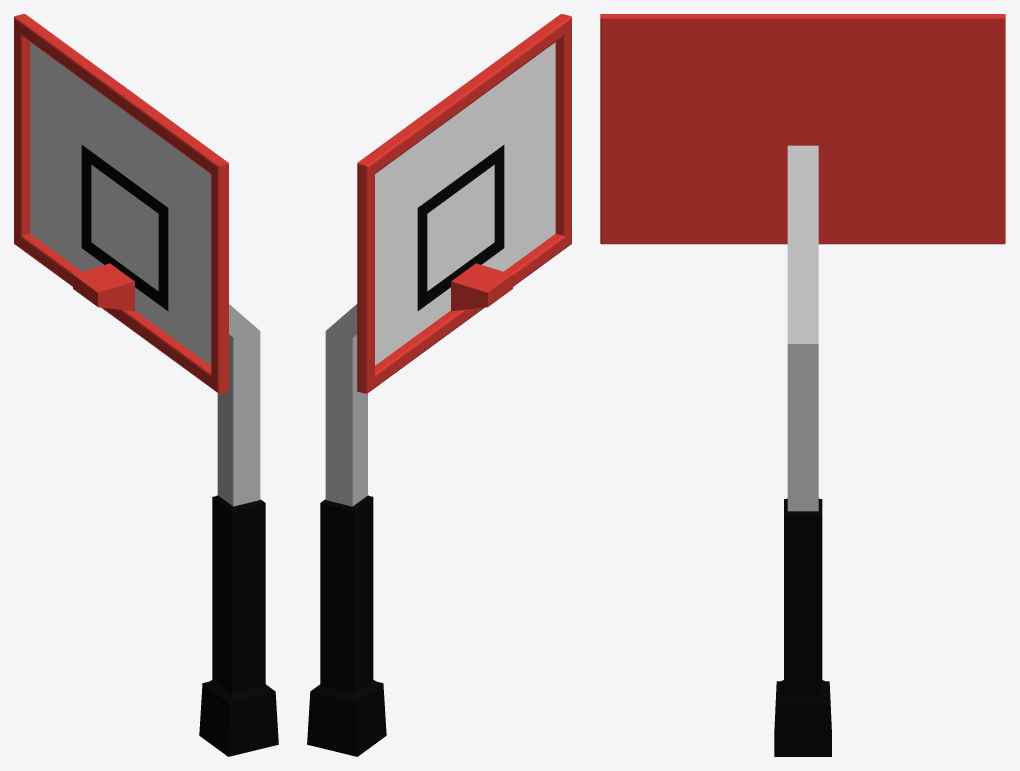
Rendered from basketball net stand.fbx.
The picture shows the model from 3 angles, left to right: view 1: azimuth 30°, elevation 25°; view 2: azimuth 150°, elevation 25°; view 3: azimuth 270°, elevation 25°; orthographic projection.
Parts seen in each view (by area): view 1: Cylinder.003, Cylinder.004, Cylinder.002, Cylinder, Cylinder.001; view 2: Cylinder.003, Cylinder.004, Cylinder.002, Cylinder, Cylinder.001; view 3: Cylinder.002, Cylinder, Cylinder.004.
Boxes of the visible parts, <box> form: Cylinder.003: <box>30,42,211,365</box>; Cylinder.004: <box>81,145,278,756</box>; Cylinder.002: <box>14,14,228,393</box>; Cylinder: <box>217,304,260,506</box>; Cylinder.001: <box>73,263,134,311</box>; Cylinder.003: <box>375,42,555,365</box>; Cylinder.004: <box>307,145,504,756</box>; Cylinder.002: <box>357,14,571,393</box>; Cylinder: <box>325,304,367,506</box>; Cylinder.001: <box>451,263,512,311</box>; Cylinder.002: <box>600,14,1005,244</box>; Cylinder: <box>787,145,818,511</box>; Cylinder.004: <box>774,498,831,756</box>.
Size of the model in its own units: 44.45 by 161 by 88.2.
